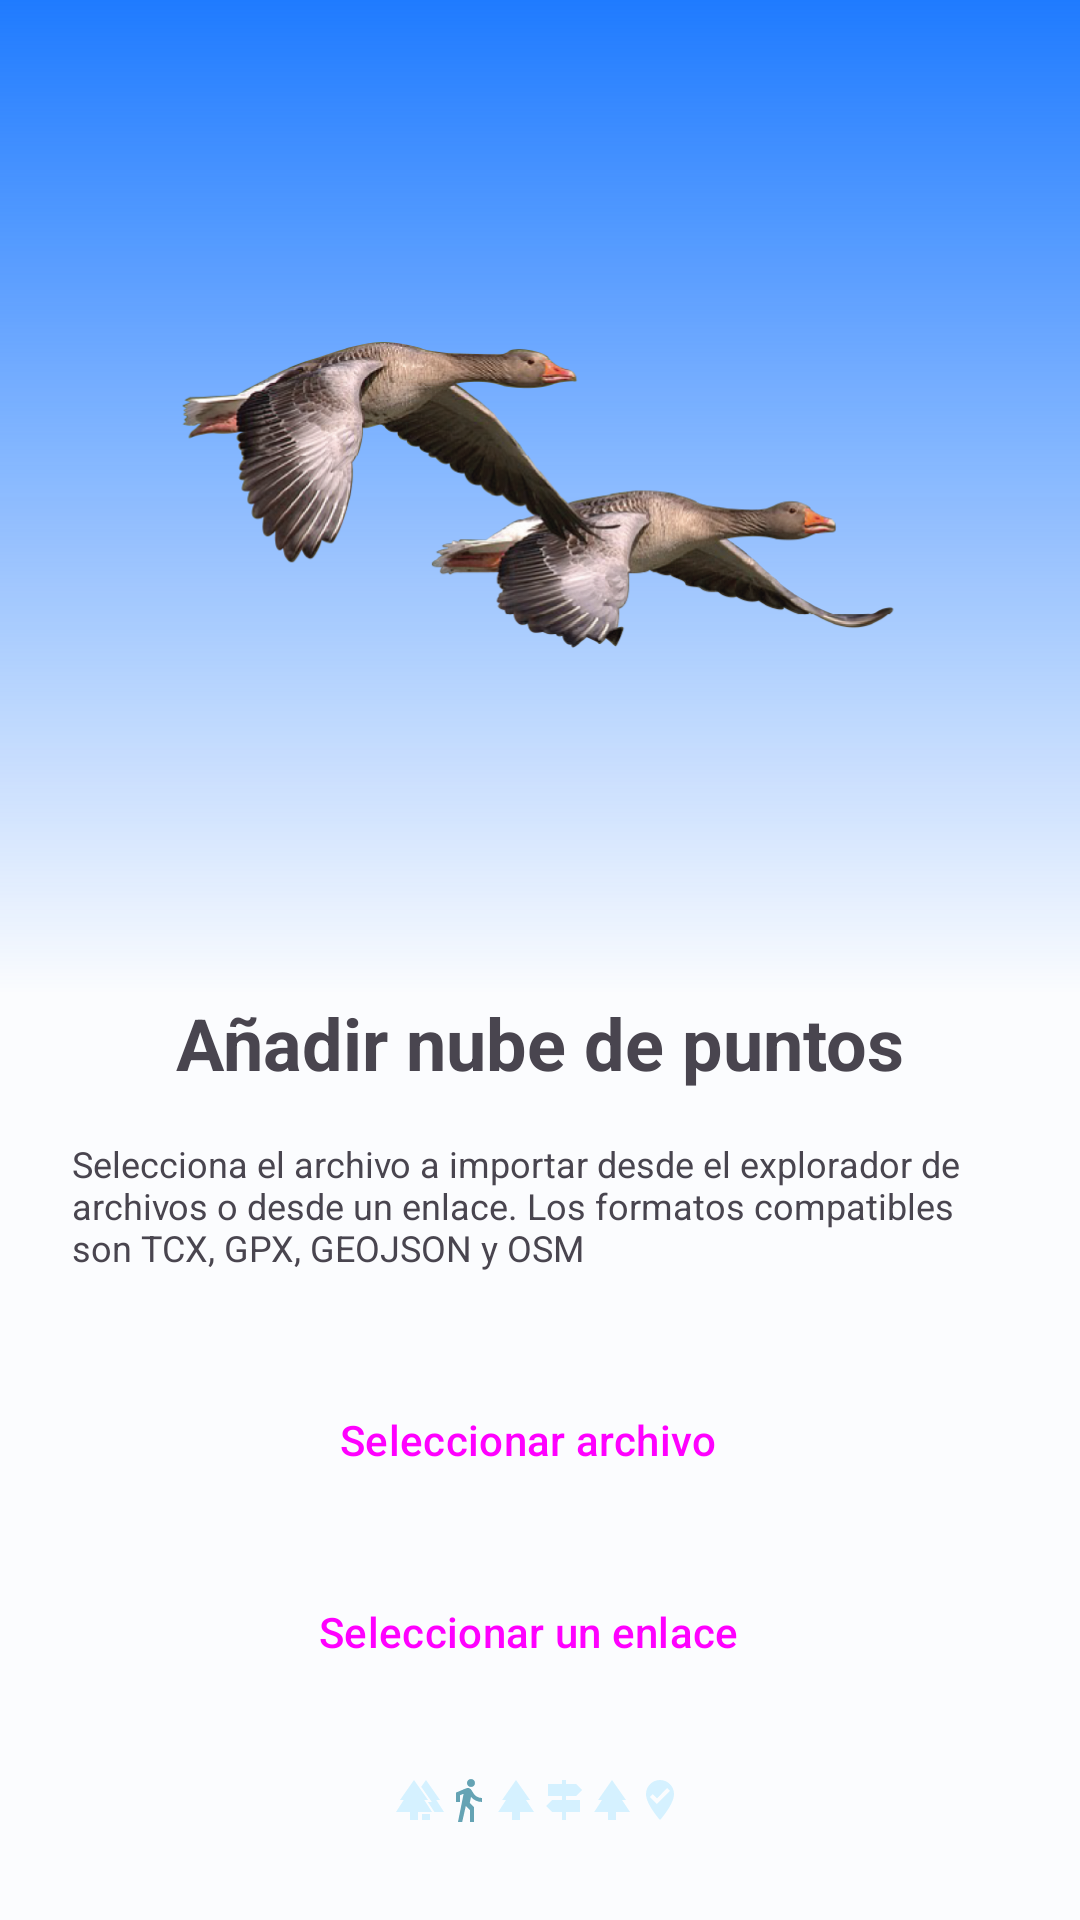

Screen size 1080px×1920px. Icon name, then its box in pixels as (x1, y1, x2, y2):
arbol: (499, 1781, 534, 1820), (595, 1781, 630, 1820)
bosque: (396, 1781, 444, 1820)
caminar: (456, 1779, 482, 1822)
destino: (646, 1780, 674, 1819)
senal: (547, 1780, 582, 1820)
